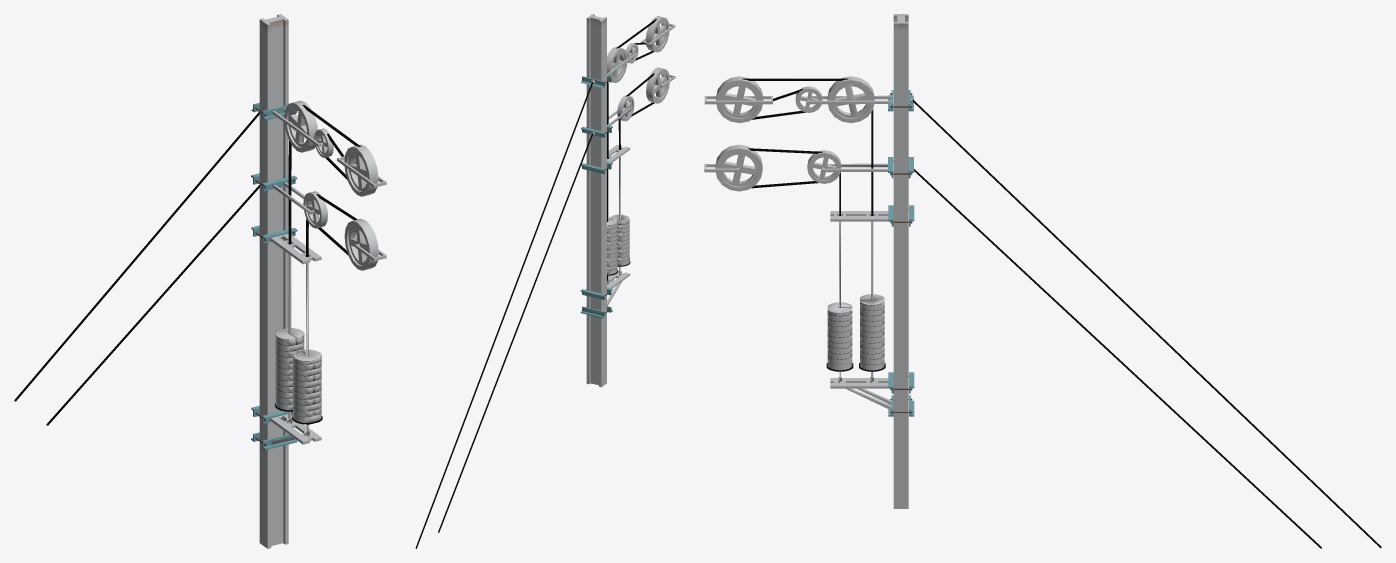
The model's file is compensator_pro_0.6.obj.
The picture shows the model from 3 angles, left to right: view 1: azimuth 30°, elevation 25°; view 2: azimuth 150°, elevation 25°; view 3: azimuth 270°, elevation 25°; orthographic projection. The views are drawn at different scales.
Parts seen in each view (by area): view 1: catenary_anti.040, catenary_anti, catenary_anti.039; view 2: catenary_anti, catenary_anti.040, catenary_anti.039; view 3: catenary_anti.040, catenary_anti, catenary_anti.039.
Part boxes in pixels (x1,y1,x2,y2): catenary_anti.040: (251, 100, 386, 449); catenary_anti: (259, 14, 288, 548); catenary_anti.039: (14, 111, 259, 425); catenary_anti: (586, 14, 606, 387); catenary_anti.040: (416, 16, 675, 548); catenary_anti.039: (415, 81, 592, 548); catenary_anti.040: (704, 76, 914, 416); catenary_anti: (893, 14, 908, 508); catenary_anti.039: (912, 99, 1381, 548).
Bounding box in the file's own units: 0.5791 × 9.75 × 11.29.
Materials: 3 (3 with a texture image).
